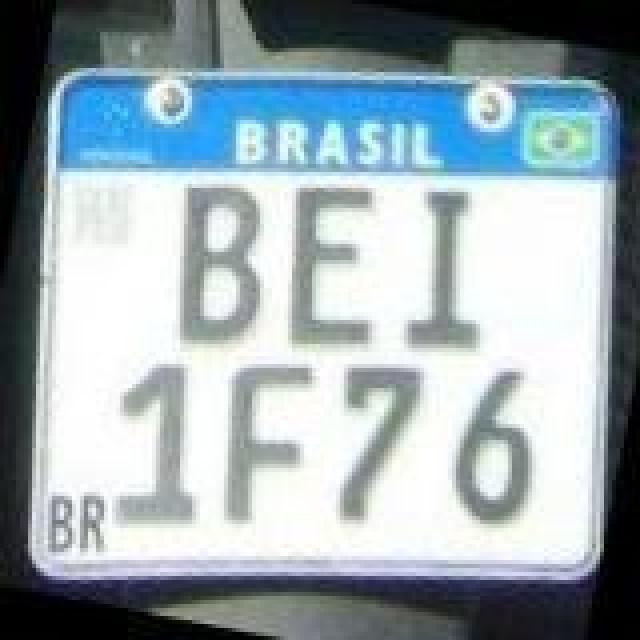1: (94, 348, 226, 532)
6: (438, 358, 554, 530)
7: (314, 352, 430, 536)
B: (148, 172, 284, 356)
E: (266, 168, 406, 360)
F: (202, 346, 326, 534)
I: (388, 176, 508, 368)
